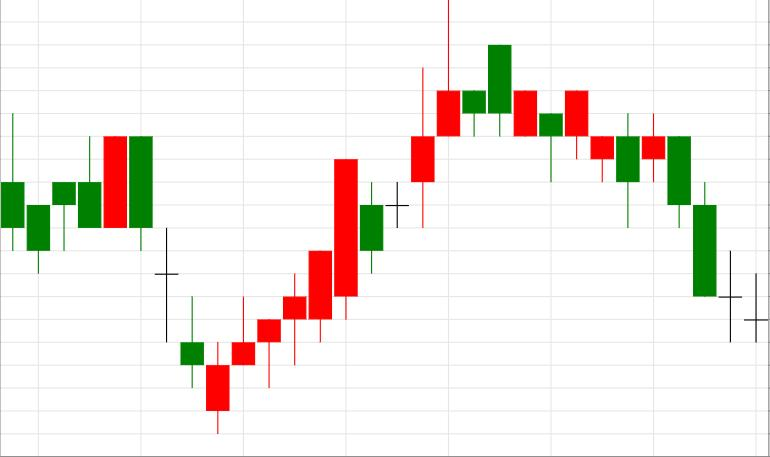shooting_star_fall: (207, 0, 460, 434)
